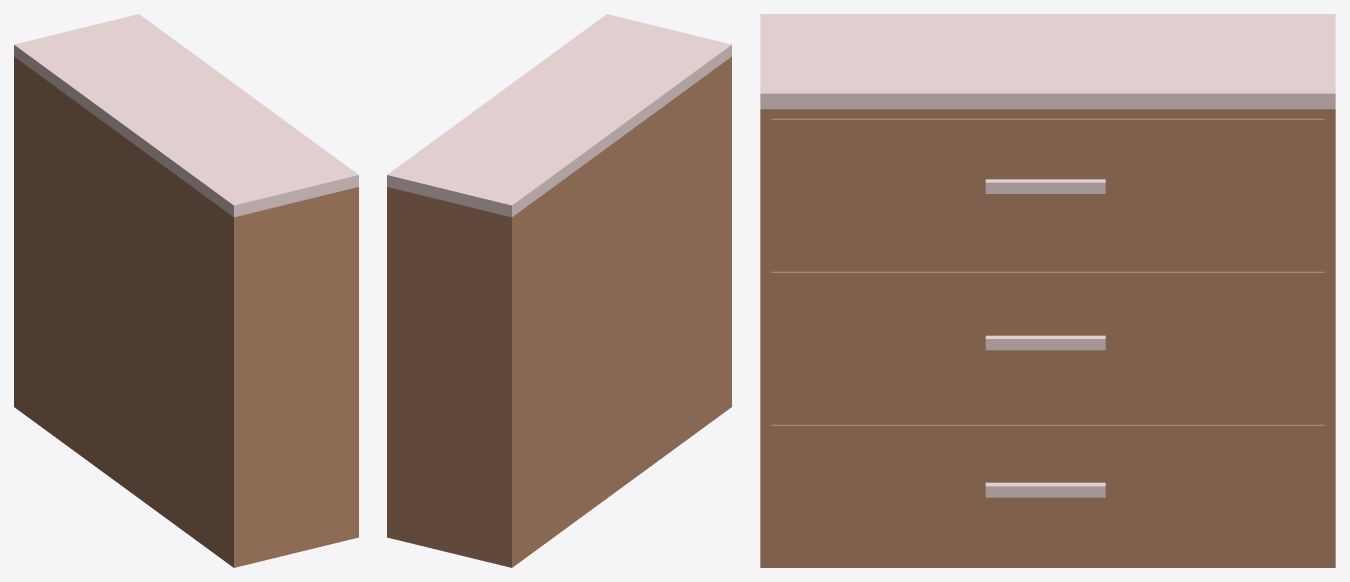
The model's file is Bedroom_2_Cabinet.fbx.
3 renders of one model, left to right at view 1: azimuth 30°, elevation 25°; view 2: azimuth 150°, elevation 25°; view 3: azimuth 270°, elevation 25°, orthographic. The views are drawn at different scales.
Parts seen in each view (by area): view 1: Bedroom_2_Cabinet; view 2: Bedroom_2_Cabinet; view 3: Bedroom_2_Cabinet.
Part boxes in pixels (left/top/right/bottom): Bedroom_2_Cabinet: left=14, top=14, right=358, bottom=567; Bedroom_2_Cabinet: left=387, top=14, right=731, bottom=567; Bedroom_2_Cabinet: left=760, top=14, right=1335, bottom=567.
Bounding box in the file's own units: 62.53 × 163 × 180.
